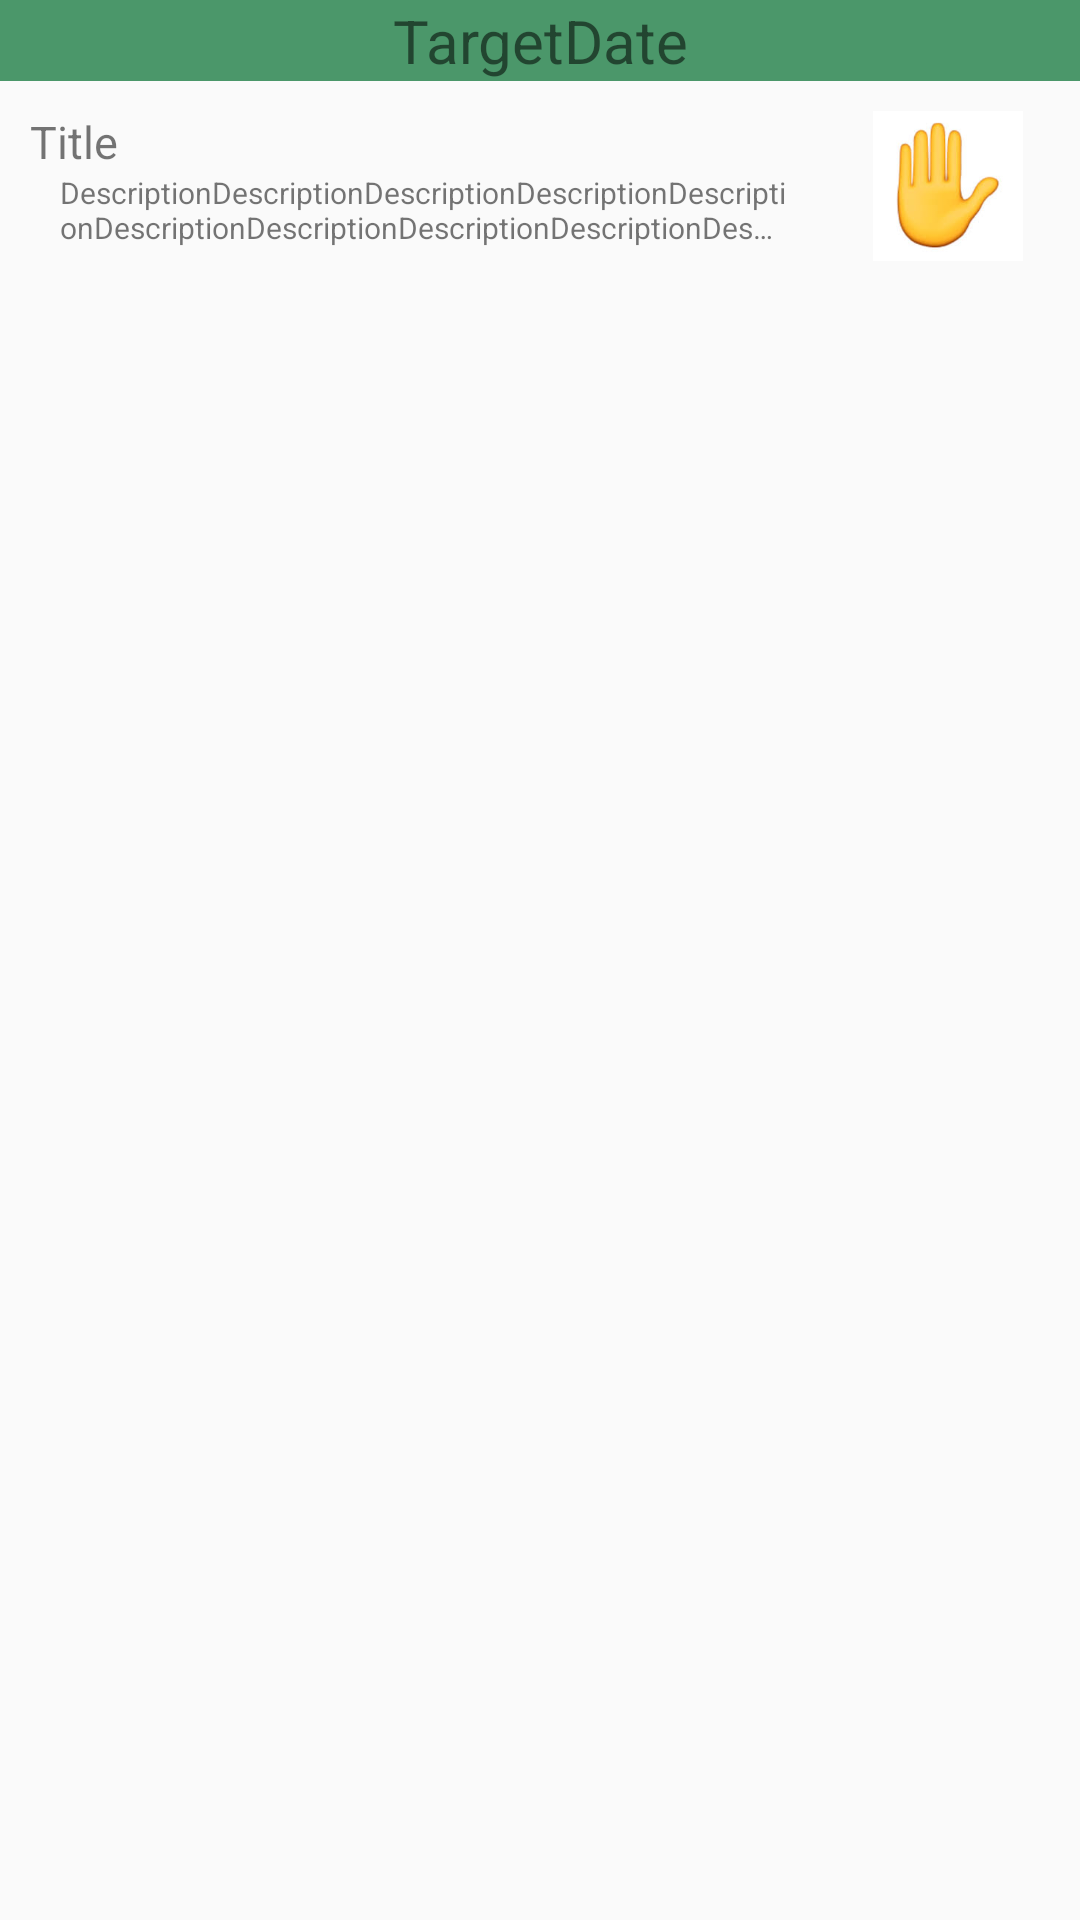

Where to tap for icons on this 1080×1920 app screen, as (x=x, y=y):
hands up: (x=948, y=185)
